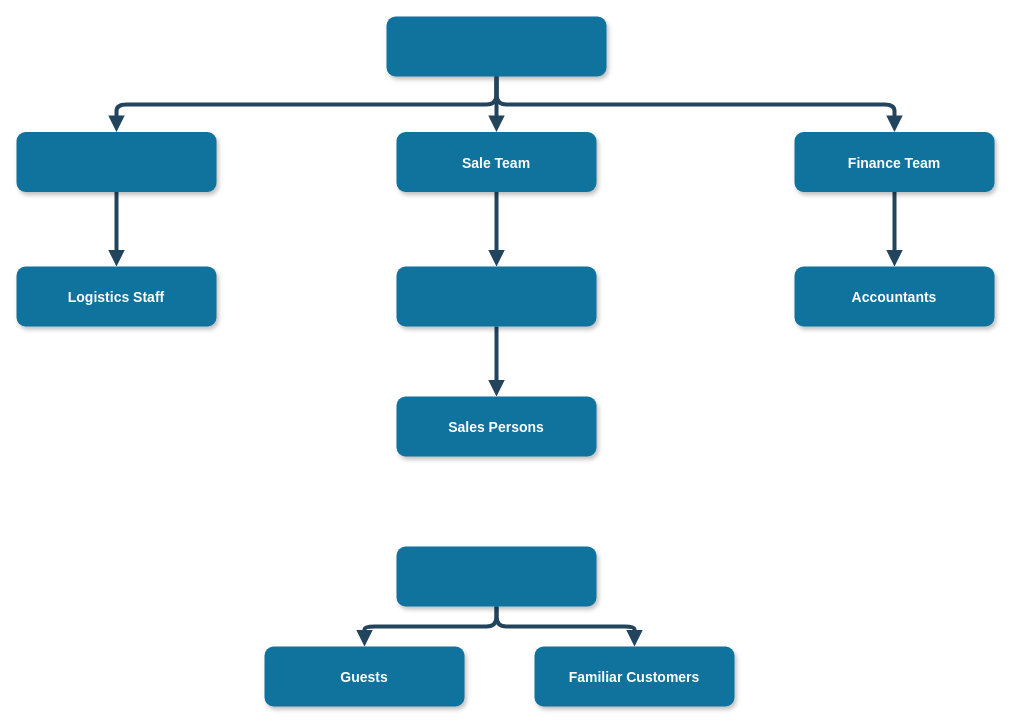
Some shapes in this 1011 by 723 pixel diagram are drawn without their labels. Each missing label, with the centre of its shape:
"Customers" goes at [497,577].
"Logistics Team" goes at [117,163].
"President" goes at [497,47].
"Store Managers" goes at [497,297].
